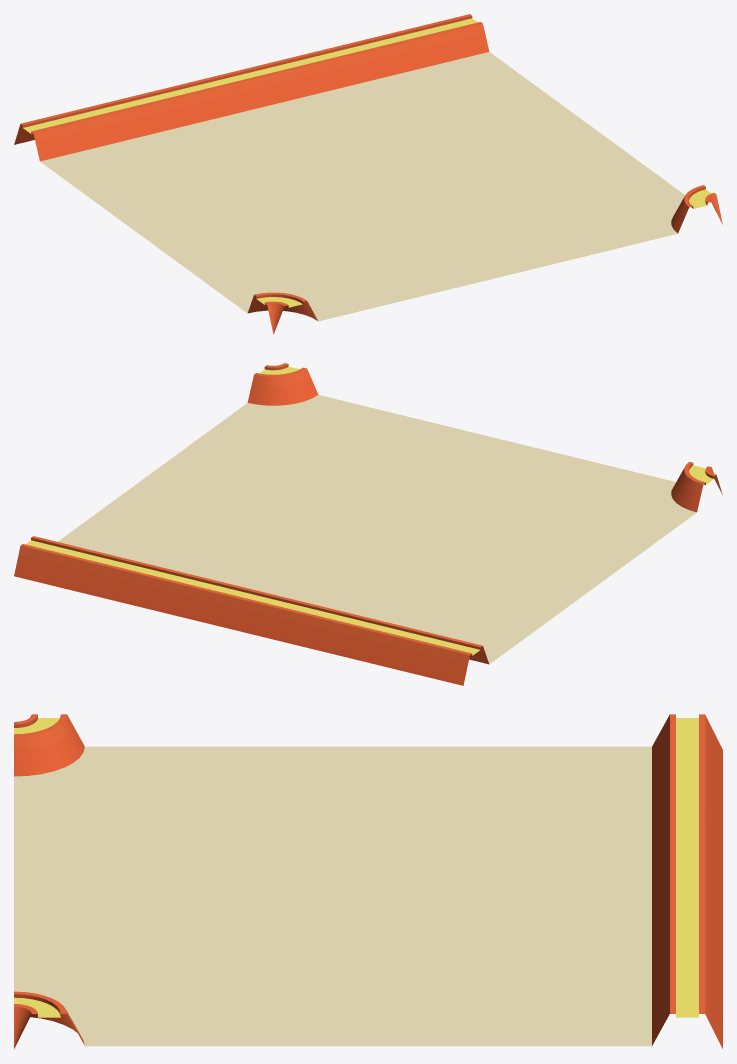
The model's file is sm_path_futuristic_fork.fbx.
The picture shows the model from 3 angles, top to bottom: view 1: azimuth 30°, elevation 25°; view 2: azimuth 150°, elevation 25°; view 3: azimuth 270°, elevation 25°; orthographic projection. The views are drawn at different scales.
Visible parts, largest first — view 1: sm_path_futuristic_fork; view 2: sm_path_futuristic_fork; view 3: sm_path_futuristic_fork.
Boxes of the visible parts, x1,y1,x2,y2 form: sm_path_futuristic_fork: (14,14,722,334); sm_path_futuristic_fork: (14,363,722,685); sm_path_futuristic_fork: (14,714,722,1048).
Bounding box in the file's own units: 300 × 300 × 16.6.
